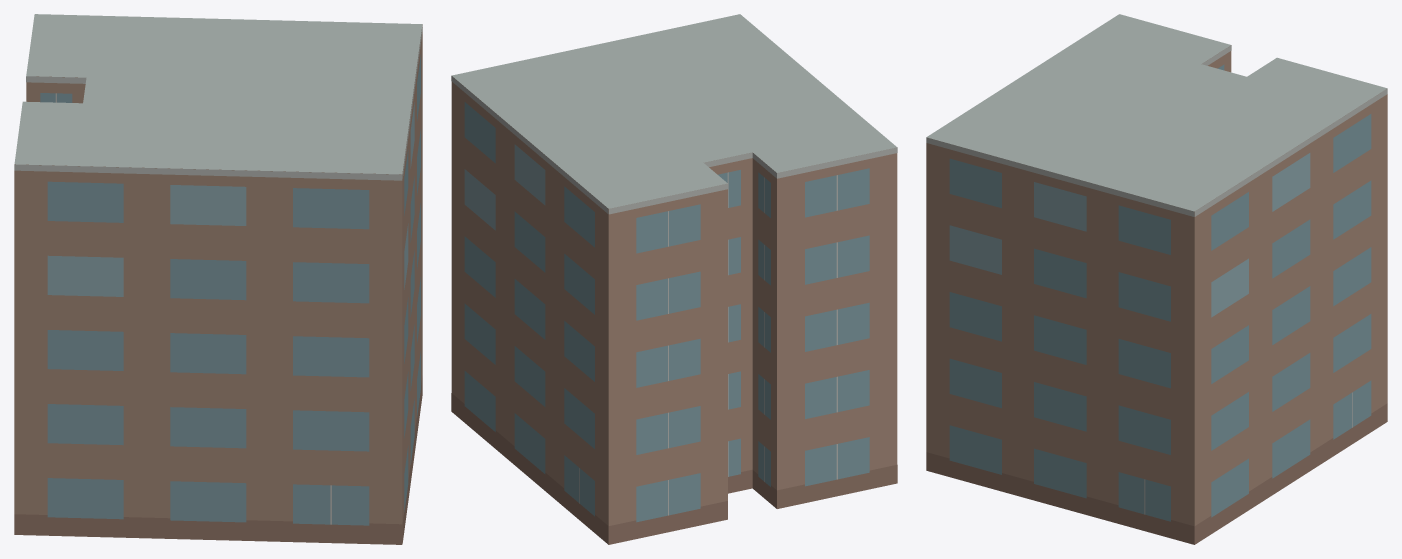
File: survey-upis-32779237.glb
3 renders of one model, left to right at view 1: azimuth 30°, elevation 25°; view 2: azimuth 150°, elevation 25°; view 3: azimuth 270°, elevation 25°, orthographic. The views are drawn at different scales.
Visible parts, largest first — view 1: survey-upis-32779237.tmp; view 2: survey-upis-32779237.tmp; view 3: survey-upis-32779237.tmp.
Boxes of the visible parts, box(x1,y1,x2,y2) form: survey-upis-32779237.tmp: box(14, 14, 422, 544); survey-upis-32779237.tmp: box(451, 14, 897, 544); survey-upis-32779237.tmp: box(926, 14, 1387, 544).
Size of the model in its own units: 18.44 by 14.5 by 18.2.
